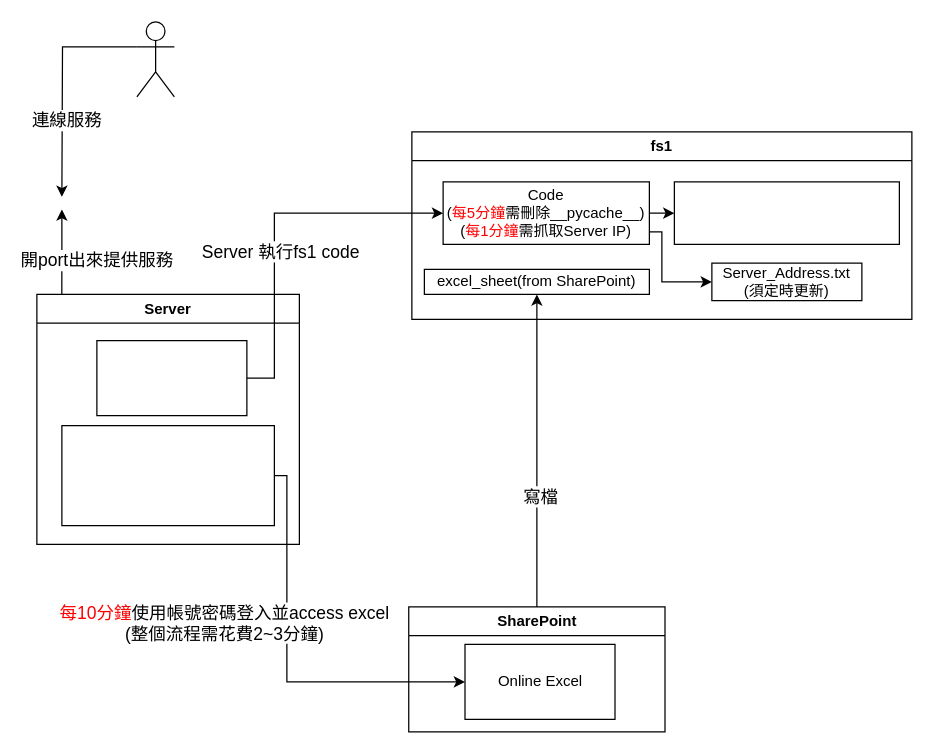
This 935x754 diagram has some shape labels left out. Each missing label, with the centre of its shape:
"__pycache__ (須被刪除) (若有，會無法新增至extension)" goes at point 786,212.
"fs1權限 (adlink 帳號)" goes at point 171,377.
"SharePoint權限 (能開啟excel檔案的帳號密碼) (帳號密碼存在.env中)" goes at point 167,475.
"User" goes at point 155,59.
